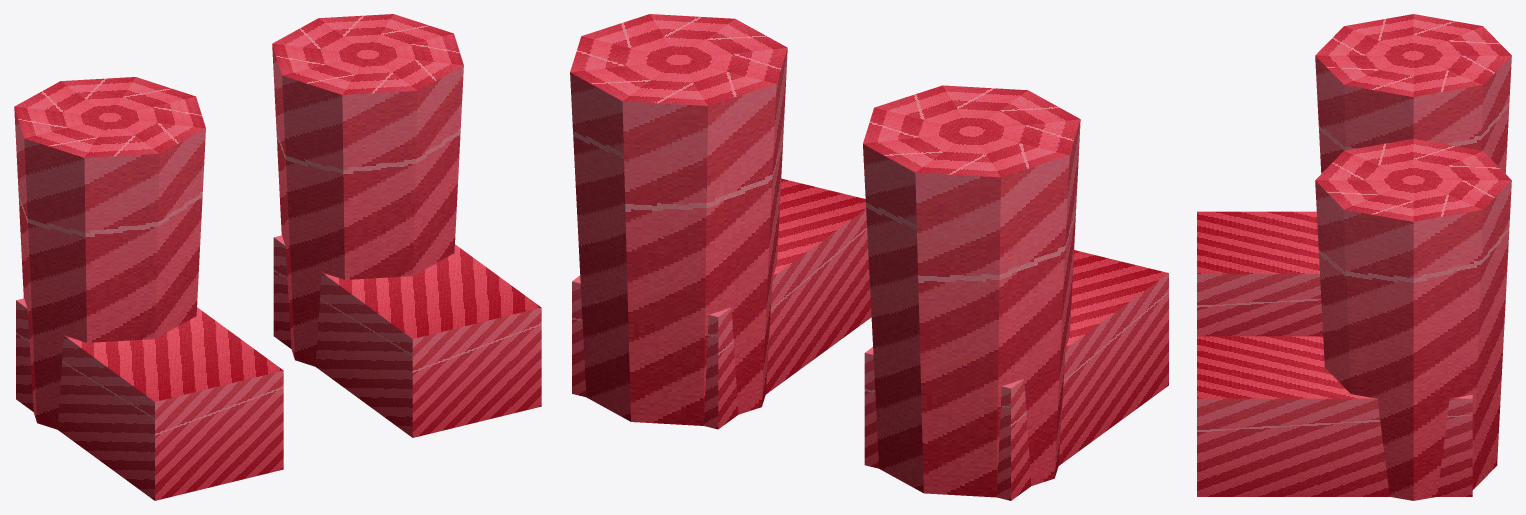
Rendered from botas_de_rubi.glb.
3 renders of one model, left to right at view 1: azimuth 30°, elevation 25°; view 2: azimuth 150°, elevation 25°; view 3: azimuth 270°, elevation 25°, orthographic. The views are drawn at different scales.
Parts seen in each view (by area): view 1: botas_de_rubi; view 2: botas_de_rubi; view 3: botas_de_rubi.
Boxes of the visible parts, <box> form: botas_de_rubi: <box>14,14,541,500</box>; botas_de_rubi: <box>570,14,1168,500</box>; botas_de_rubi: <box>1197,14,1511,500</box>.
Size of the model in its own units: 0.5 by 0.32 by 0.32.
1 material, 1 textured.
